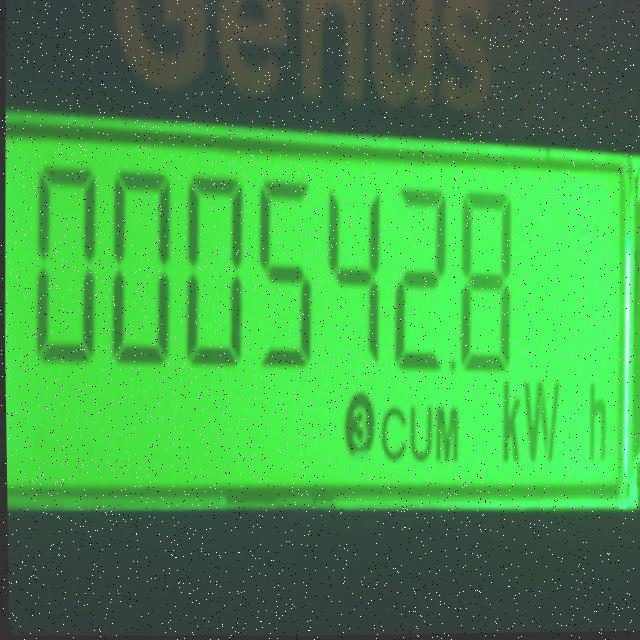.: (447, 363, 453, 376)
0: (31, 163, 98, 367), (109, 171, 170, 359), (186, 178, 244, 367)
2: (393, 190, 444, 373)
4: (326, 192, 381, 363)
5: (256, 179, 312, 367)
8: (458, 194, 512, 373)
